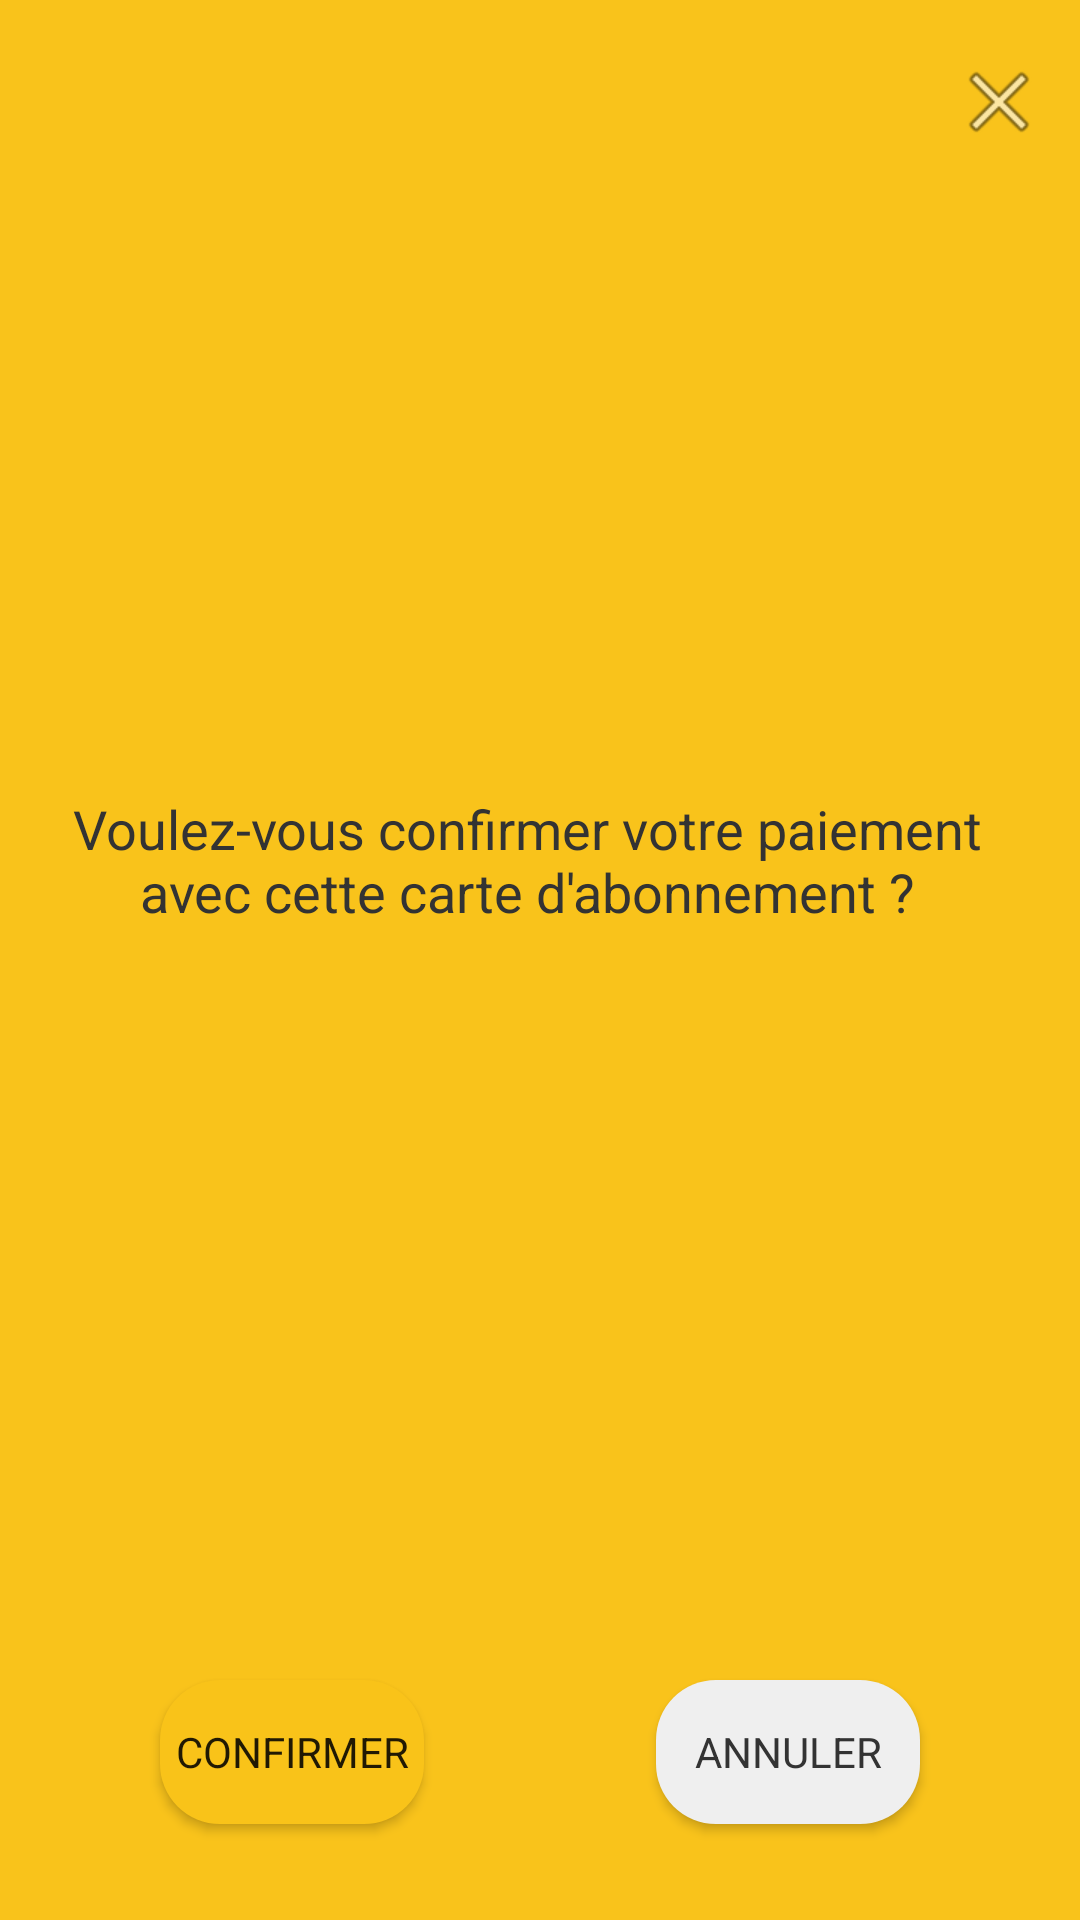

Icons on this 1080*1920 Android screen, each with its box as bbox=(x1, y1, x2, y2):
close clear cancel: bbox=(969, 72, 1029, 132)
